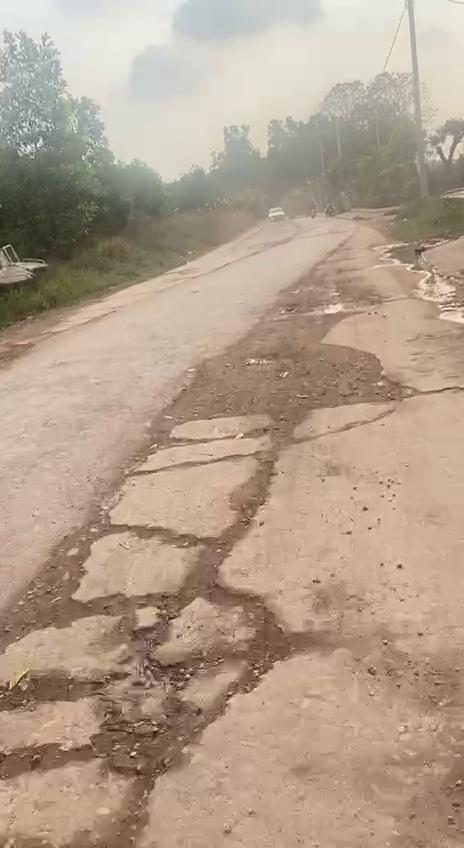pothole: (0, 570, 301, 794)
